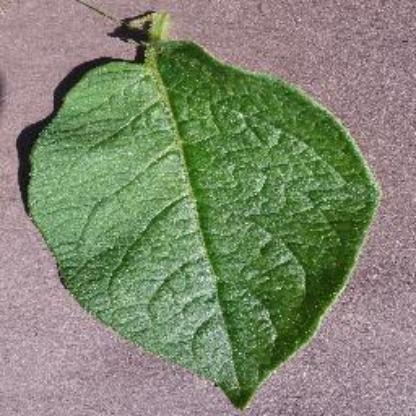Healthy-plant: (23, 11, 381, 409)
